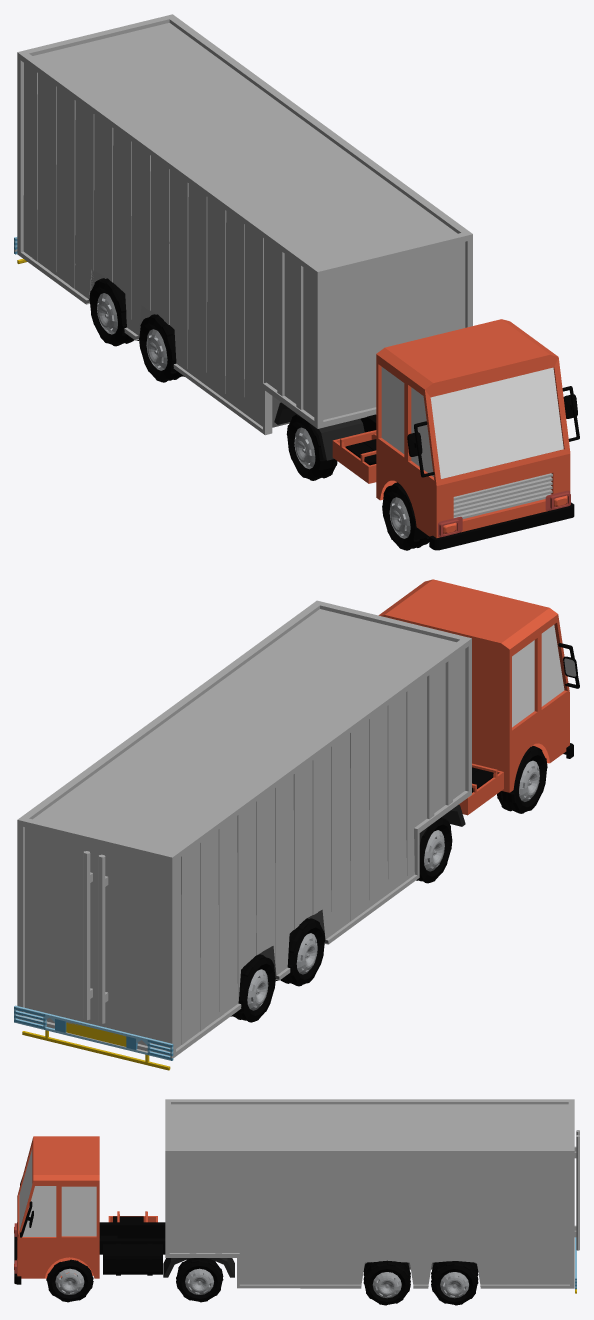
Rendered from TransportTruck.fbx.
3 renders of one model, top to bottom at view 1: azimuth 30°, elevation 25°; view 2: azimuth 150°, elevation 25°; view 3: azimuth 270°, elevation 25°, orthographic. The views are drawn at different scales.
Visible parts, largest first — view 1: Container, body, Wheel frontleft.005, Wheel frontleft.010, Wheel frontleft.011, Wheel frontleft.008; view 2: Container, body, Wheel frontleft.010, Wheel frontleft.005, Wheel frontleft.008, Wheel frontleft.011; view 3: Container, body, Wheel frontleft.007, Wheel frontleft.012, Wheel frontleft.006, Wheel frontleft.009.
Part boxes in pixels (<box>): Container: <box>14,14,472,435</box>; body: <box>274,319,579,550</box>; Wheel frontleft.005: <box>89,278,138,346</box>; Wheel frontleft.010: <box>139,314,184,382</box>; Wheel frontleft.011: <box>286,414,337,480</box>; Wheel frontleft.008: <box>382,482,429,550</box>; Container: <box>14,600,471,1070</box>; body: <box>378,579,579,844</box>; Wheel frontleft.010: <box>275,918,325,986</box>; Wheel frontleft.005: <box>230,954,275,1022</box>; Wheel frontleft.008: <box>497,746,547,813</box>; Wheel frontleft.011: <box>416,817,452,883</box>; Container: <box>165,1099,579,1293</box>; body: <box>14,1136,234,1284</box>; Wheel frontleft.007: <box>431,1261,478,1305</box>; Wheel frontleft.012: <box>363,1260,410,1305</box>; Wheel frontleft.006: <box>176,1258,223,1302</box>; Wheel frontleft.009: <box>46,1259,93,1302</box>.
Size of the model in its own units: 248 by 321 by 1058.
9 materials, 3 textured.
